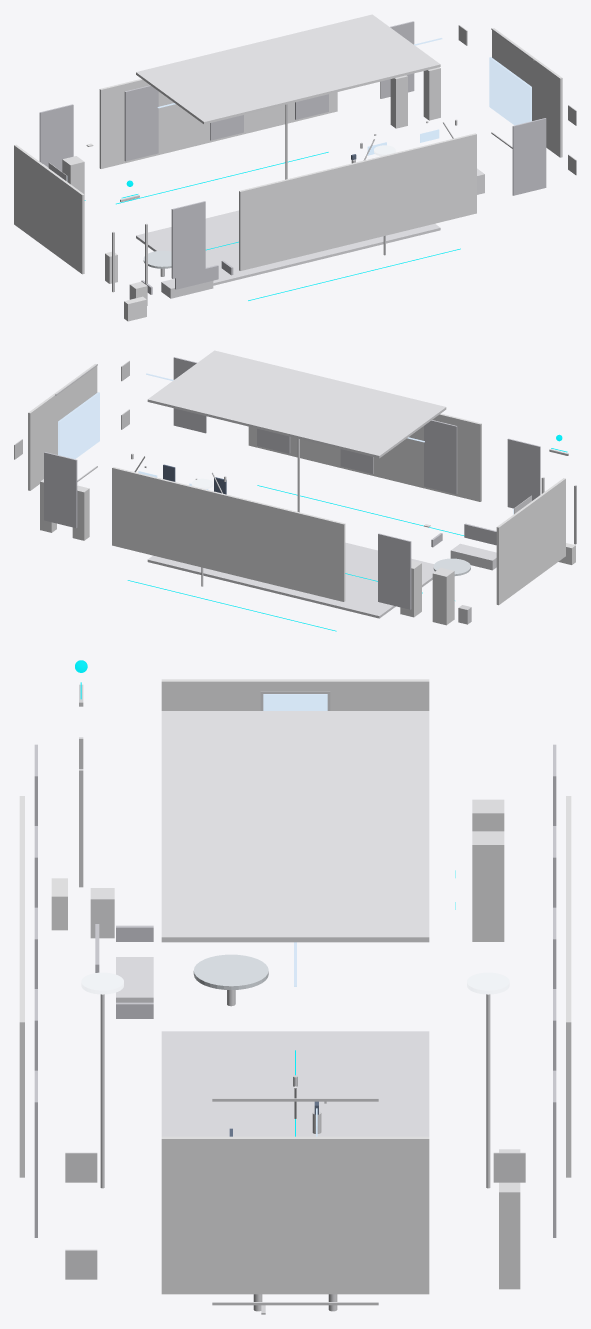
The picture shows the model from 3 angles, top to bottom: view 1: azimuth 30°, elevation 25°; view 2: azimuth 150°, elevation 25°; view 3: azimuth 270°, elevation 25°; orthographic projection. The views are drawn at different scales.
Parts seen in each view (by area): view 1: Wall_South, Ceiling, Wall_West, Wall_North, Floor, Wall_East, CurvePanel_S5, CurvePanel_S1, CurvePanel_N2, LEDPanel_BG, CurvePanel_N1, Storage2 (+9 smaller); view 2: Wall_North, Ceiling, Wall_West, Wall_South, Floor, Wall_East, CurvePanel_N1, CurvePanel_N5, CurvePanel_S2, CurvePanel_S1, LEDPanel_BG, Rack1 (+8 smaller); view 3: Ceiling, Wall_East, Floor, Wall_West, Rack2, Storage1, Wall_North, Wall_South, CoffeeTable, Sofa_Base, MiniFridge, LogoPanel (+7 smaller).
Boxes of the visible parts, left/top/right/bottom form: Wall_South: left=239, top=133, right=476, bottom=270; Ceiling: left=136, top=14, right=440, bottom=124; Wall_West: left=14, top=144, right=84, bottom=274; Wall_North: left=99, top=79, right=337, bottom=168; Floor: left=136, top=210, right=440, bottom=285; Wall_East: left=492, top=28, right=562, bottom=157; CurvePanel_S5: left=512, top=118, right=546, bottom=195; CurvePanel_S1: left=171, top=201, right=205, bottom=278; CurvePanel_N2: left=124, top=85, right=158, bottom=161; LEDPanel_BG: left=489, top=57, right=531, bottom=125; CurvePanel_N1: left=39, top=104, right=73, bottom=171; Storage2: left=390, top=75, right=407, bottom=128; Wall_North: left=112, top=467, right=345, bottom=601; Ceiling: left=147, top=350, right=446, bottom=458; Wall_West: left=496, top=478, right=565, bottom=605; Wall_South: left=248, top=413, right=481, bottom=501; Floor: left=147, top=542, right=434, bottom=618; Wall_East: left=28, top=364, right=97, bottom=490; CurvePanel_N1: left=378, top=533, right=411, bottom=609; CurvePanel_N5: left=44, top=452, right=77, bottom=528; CurvePanel_S2: left=424, top=420, right=457, bottom=494; CurvePanel_S1: left=507, top=438, right=540, bottom=508; LEDPanel_BG: left=58, top=392, right=99, bottom=458; Rack1: left=432, top=567, right=454, bottom=625; Ceiling: left=161, top=711, right=429, bottom=942; Wall_East: left=161, top=1136, right=429, bottom=1294; Floor: left=161, top=1031, right=429, bottom=1136; Wall_West: left=161, top=679, right=429, bottom=710; Rack2: left=472, top=831, right=504, bottom=941; Storage1: left=499, top=1182, right=520, bottom=1289; Wall_North: left=566, top=796, right=571, bottom=1177; Wall_South: left=19, top=796, right=24, bottom=1177; CoffeeTable: left=193, top=954, right=268, bottom=989; Sofa_Base: left=116, top=957, right=153, bottom=1002; MiniFridge: left=90, top=888, right=114, bottom=938; LogoPanel: left=263, top=694, right=327, bottom=710.
Size of the model in its own units: 10.15 by 3.35 by 5.15.
